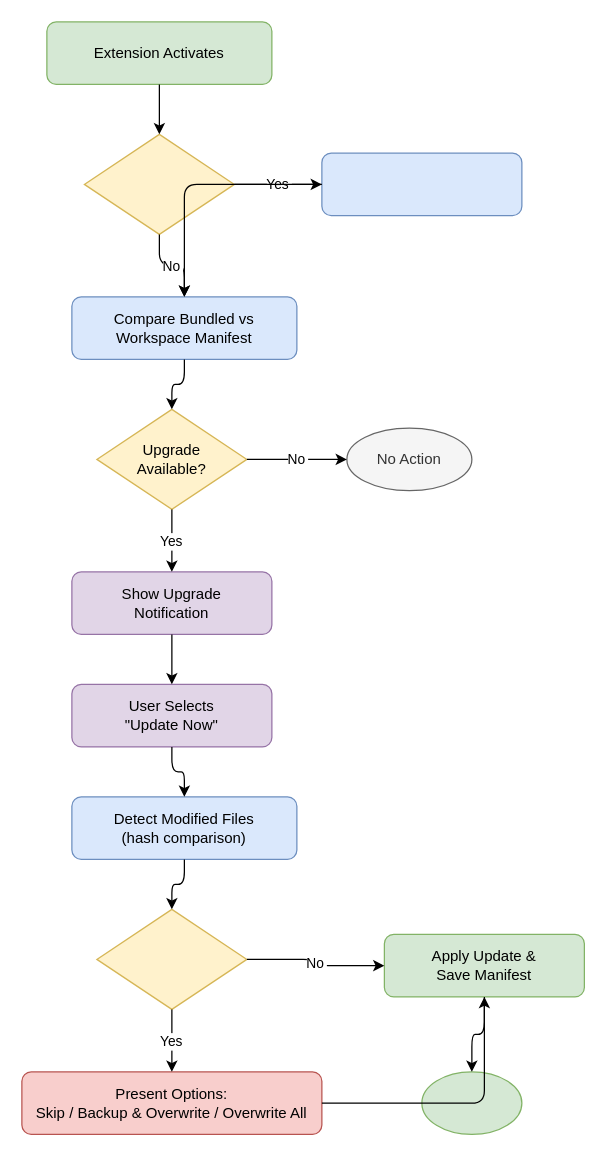
Some shapes in this 606 by 1156 pixel diagram are drawn without their labels. The shapes that lost their labels are listed below. From the top down, each one's centre as x and y in pixels, then its label:
At (x=158, y=183): "Check Legacy .sdlc-version?".
At (x=421, y=184): "Migrate to Per-File Manifest".
At (x=171, y=958): "Modified Files Found?".
At (x=471, y=1102): "Done".
